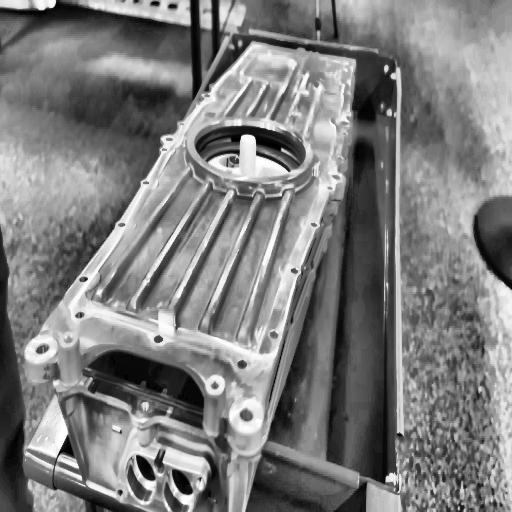bms_unit: (23, 39, 355, 449)
